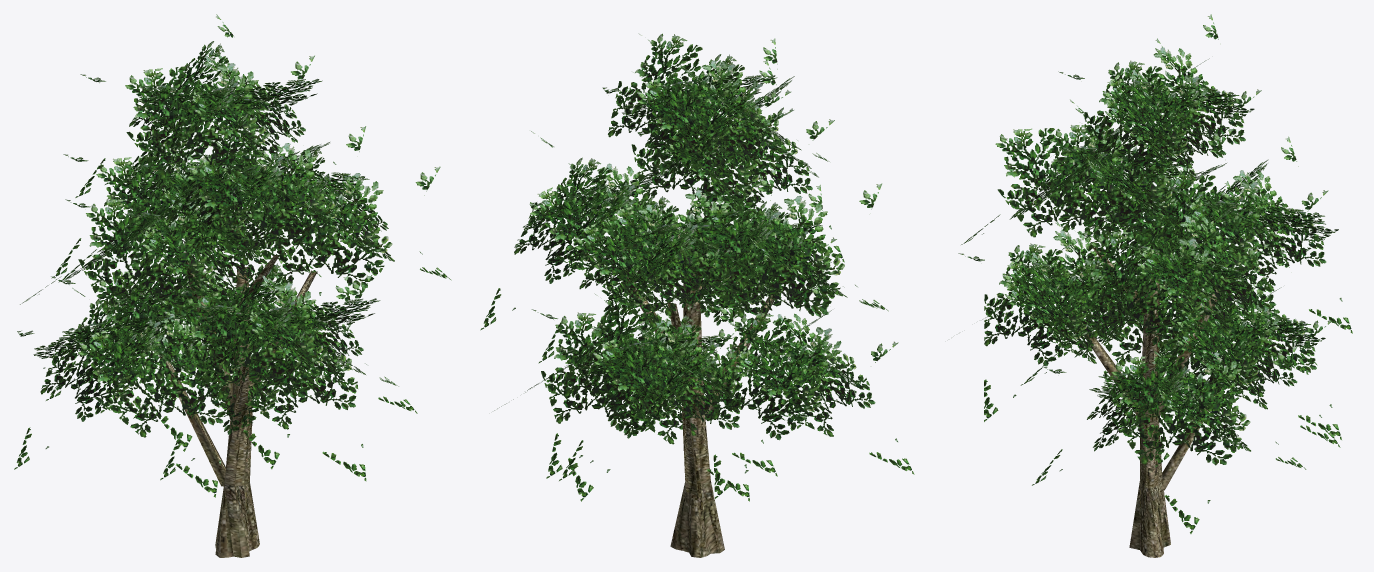
File: oak_large_0.glb
3 renders of one model, left to right at view 1: azimuth 30°, elevation 25°; view 2: azimuth 150°, elevation 25°; view 3: azimuth 270°, elevation 25°, orthographic. The views are drawn at different scales.
Parts seen in each view (by area): view 1: oak_large_0; view 2: oak_large_0; view 3: oak_large_0.
Part boxes in pixels (x1,y1,x2,y2): oak_large_0: [14, 14, 451, 557]; oak_large_0: [480, 33, 914, 557]; oak_large_0: [958, 14, 1352, 557].
Size of the model in its own units: 9.29 by 10.35 by 8.24.
2 materials, 2 textured.
